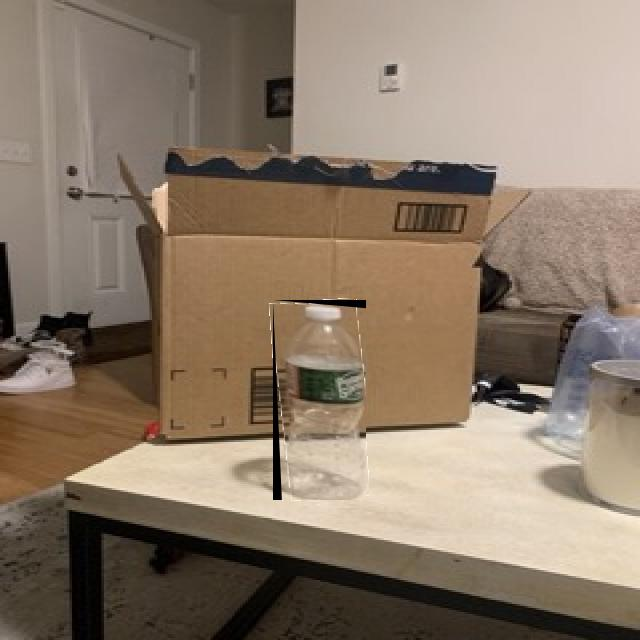water_bottle: (273, 300, 366, 500)
